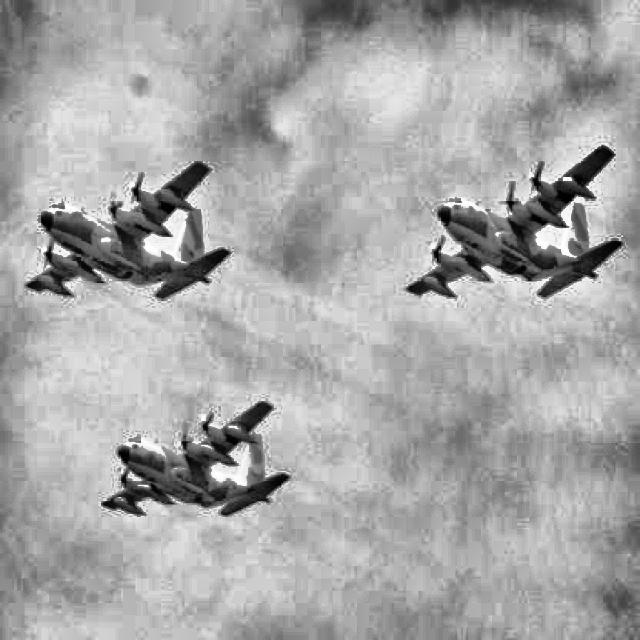C130: (404, 146, 624, 300), (24, 161, 231, 301), (100, 400, 291, 518)
